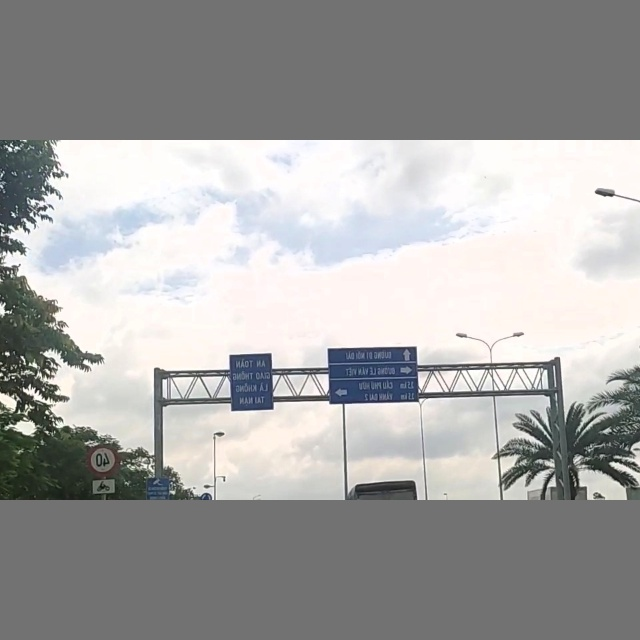P.127*40: (85, 443, 120, 477)
S.505a*Xe may: (90, 476, 117, 494)
